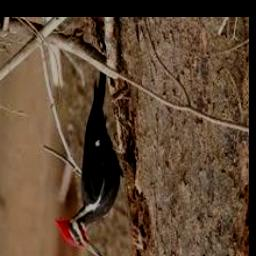Woodpecker: (55, 71, 122, 256)
